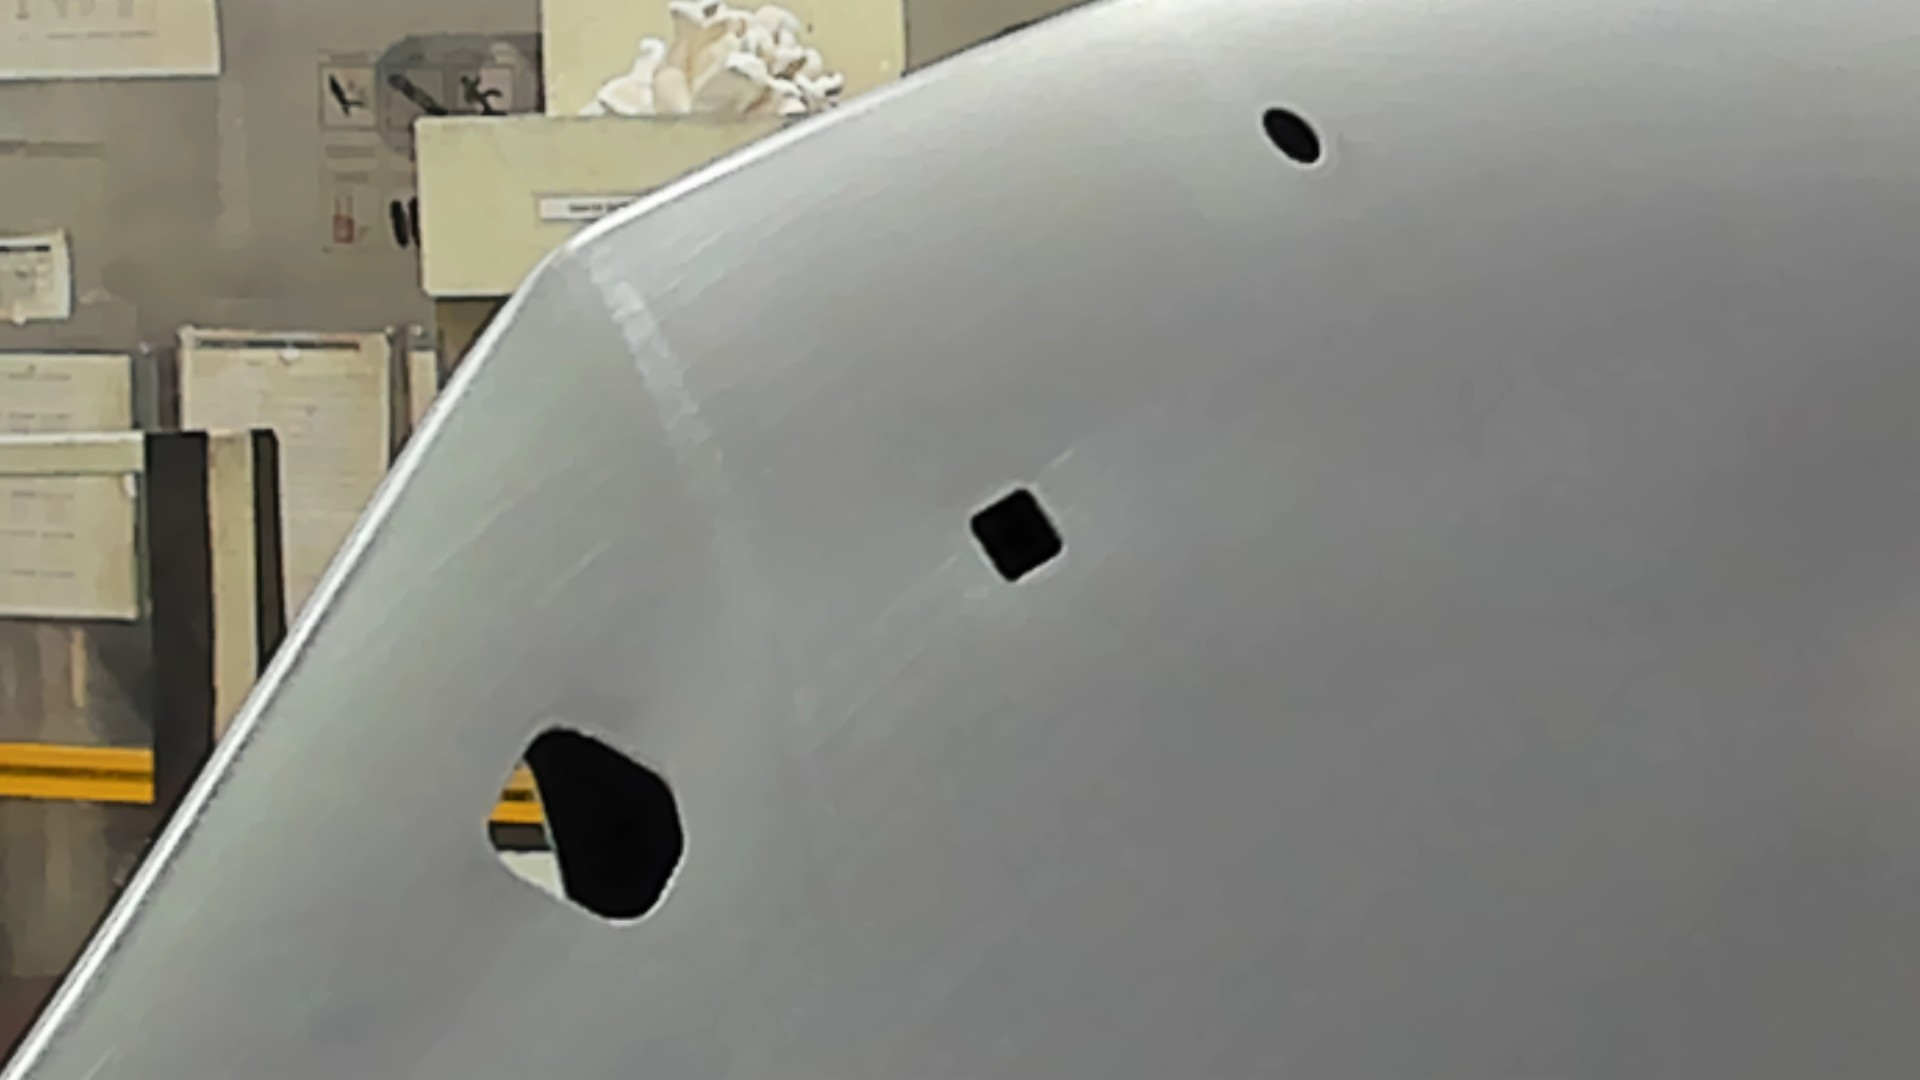chico: (1257, 102, 1327, 170)
grande: (477, 720, 696, 936)
mediano: (961, 479, 1071, 591)
